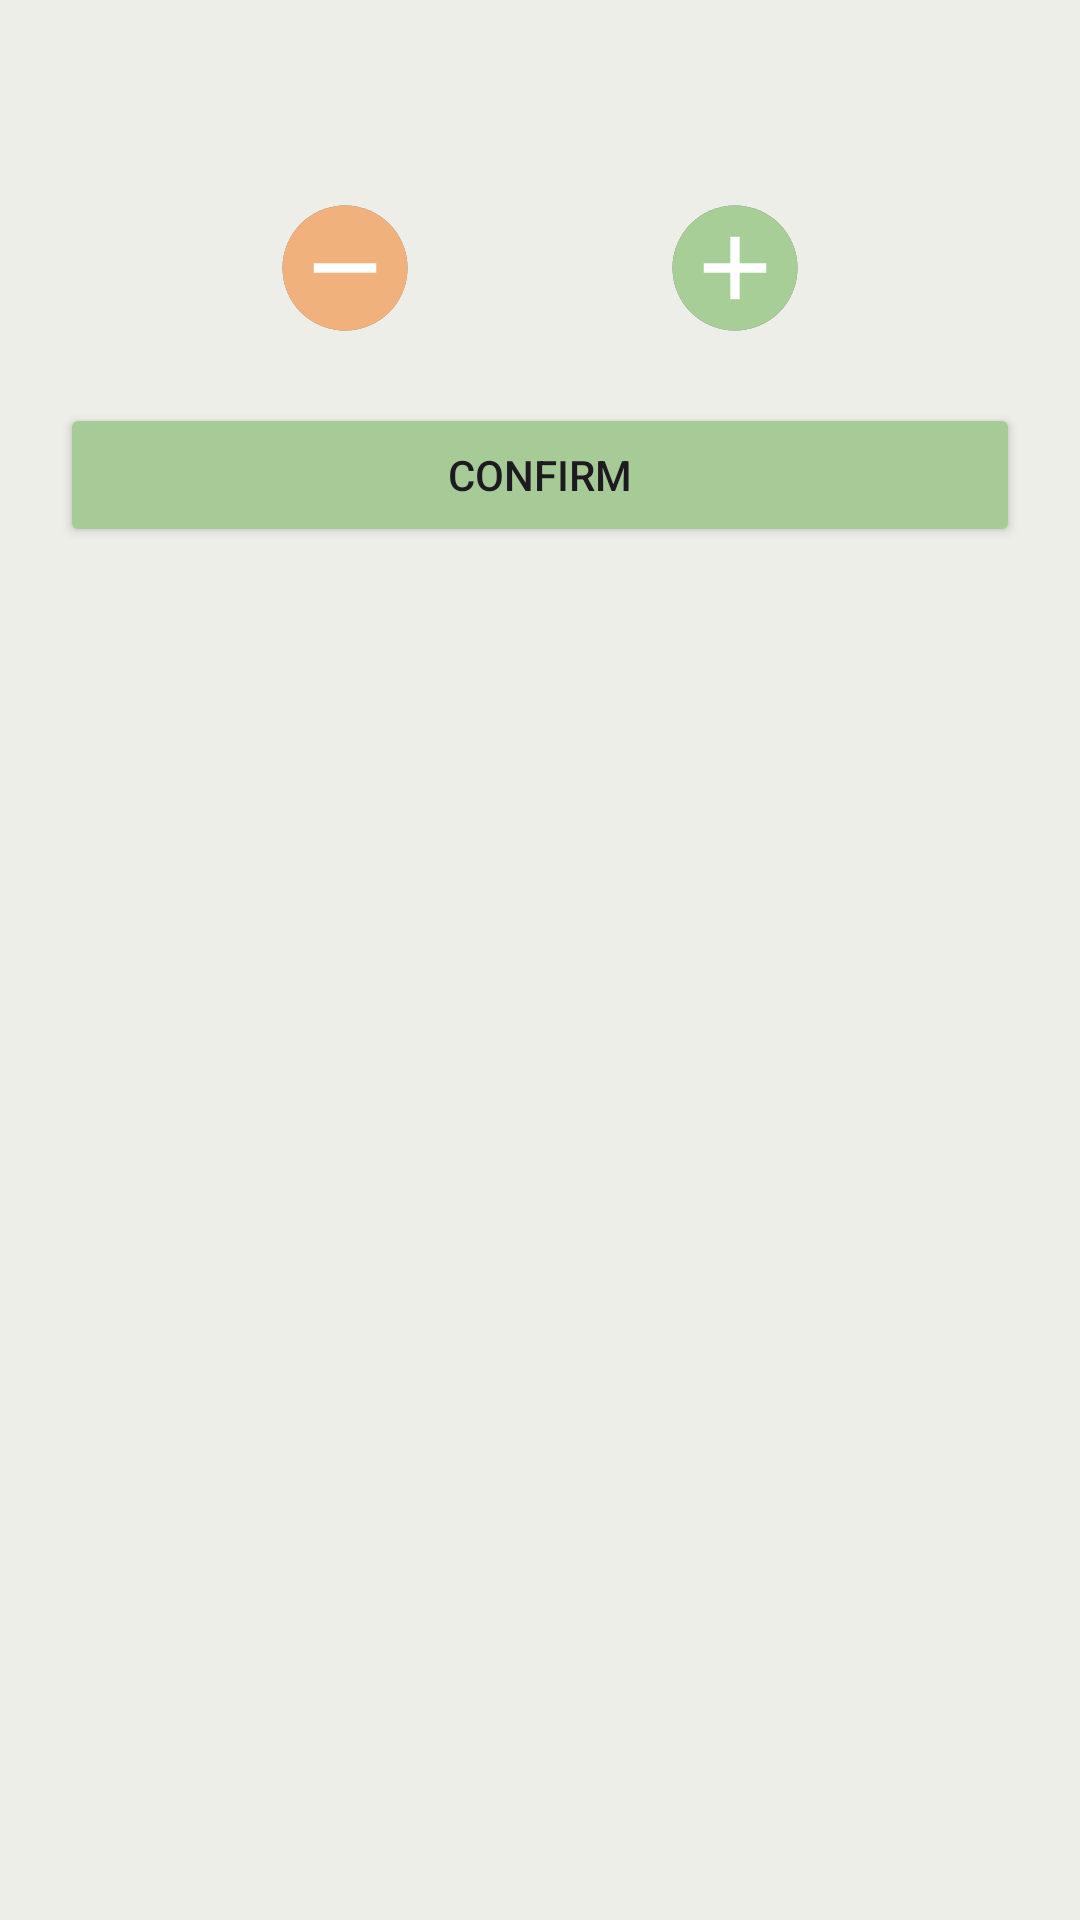

Where icons sit on this 1080*1920 app screen, as [left=x1, top=y1, right=x2, bottom=y2]:
add: [left=672, top=205, right=798, bottom=331]
minus: [left=282, top=205, right=408, bottom=331]
